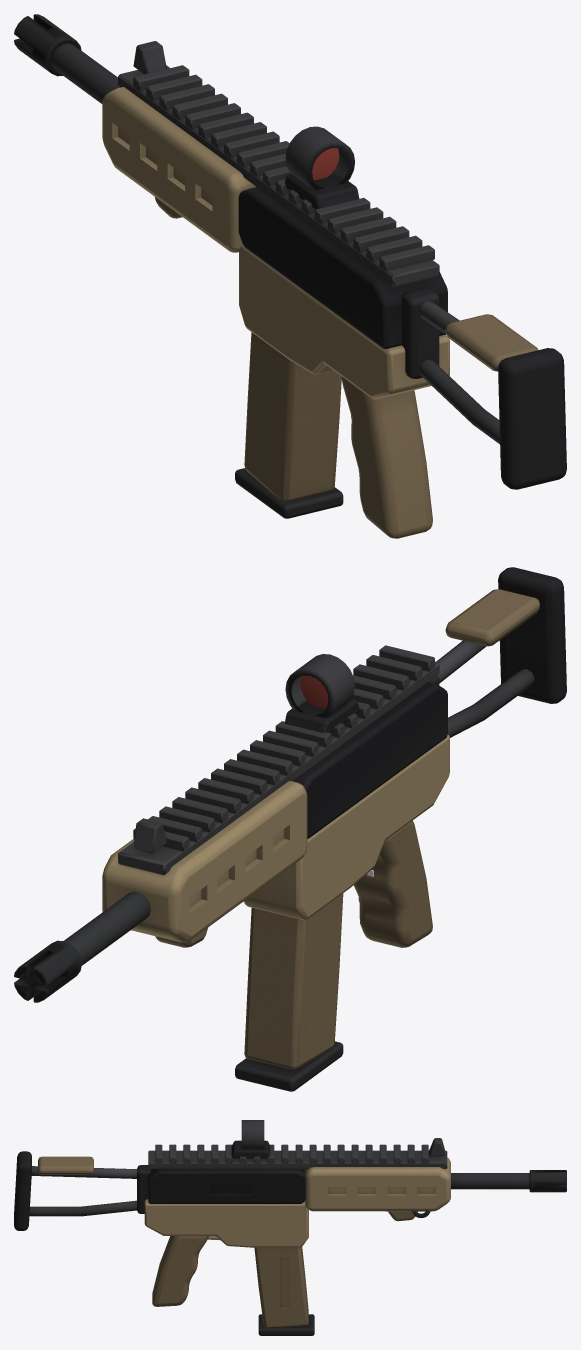
3 renders of one model, top to bottom at view 1: azimuth 30°, elevation 25°; view 2: azimuth 150°, elevation 25°; view 3: azimuth 270°, elevation 25°, orthographic. The views are drawn at different scales.
Visible parts, largest first — view 1: CB_body, CB_mag, CB_optic; view 2: CB_body, CB_mag, CB_optic; view 3: CB_body, CB_mag, CB_optic.
Boxes of the visible parts, x1,y1,x2,y2 form: CB_body: (14,14,566,538); CB_mag: (235,332,343,518); CB_optic: (285,126,359,209); CB_body: (14,567,566,1002); CB_mag: (235,893,343,1091); CB_optic: (285,654,359,732); CB_body: (14,1138,566,1306); CB_mag: (254,1246,314,1335); CB_optic: (231,1120,270,1158).
Bounding box in the file's own units: 0.262 × 1.22 × 2.96.
Materials: 1 (1 with a texture image).
